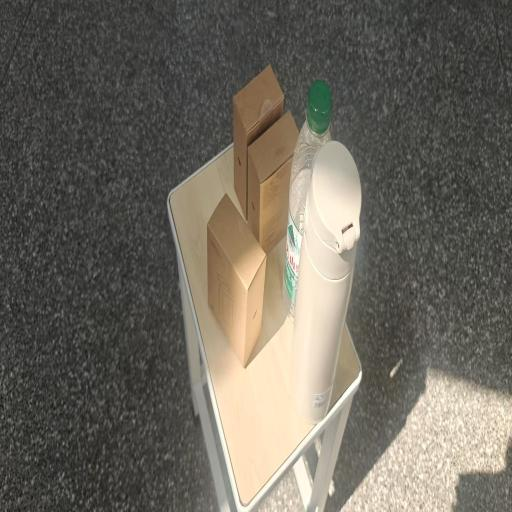bottle: (290, 141, 361, 423), (282, 80, 332, 320)
box: (207, 193, 267, 367), (233, 65, 284, 220), (247, 117, 299, 252)
